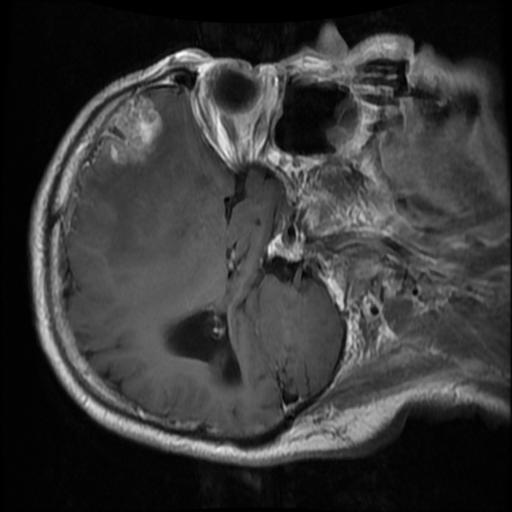meningioma: (102, 95, 162, 167)
